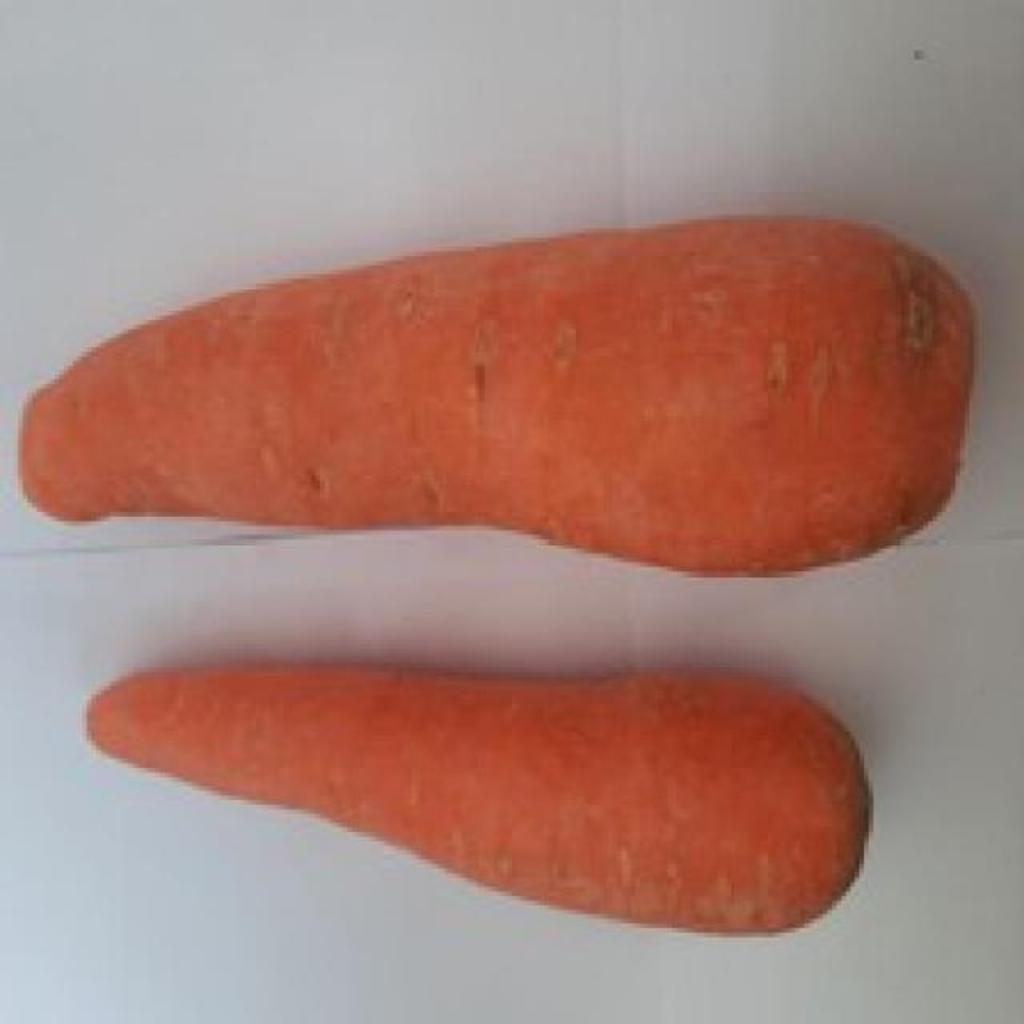carrot: (24, 218, 974, 573), (90, 666, 870, 933)
